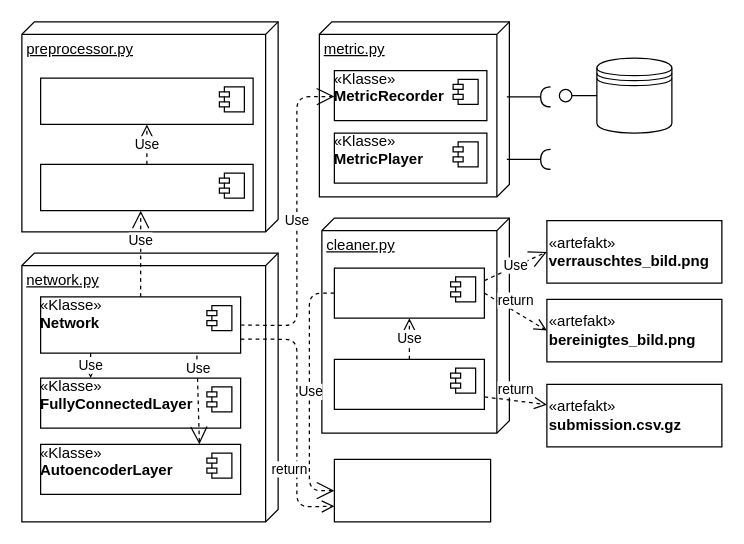
The diagram is 744 pixels wide and 544 high, and some of its shapes have lost their labels. Each missing label, with the centre of its shape:
MongoDB: [634,95]
«artefakt» persisten_model.pkl: [412,490]
«Klasse» BatchCleaner: [408,383]
«Klasse» BatchImgPreprocessor: [146,187]
«Klasse» Cleaner: [408,292]
«Klasse» ImgPreprocessor: [146,100]
